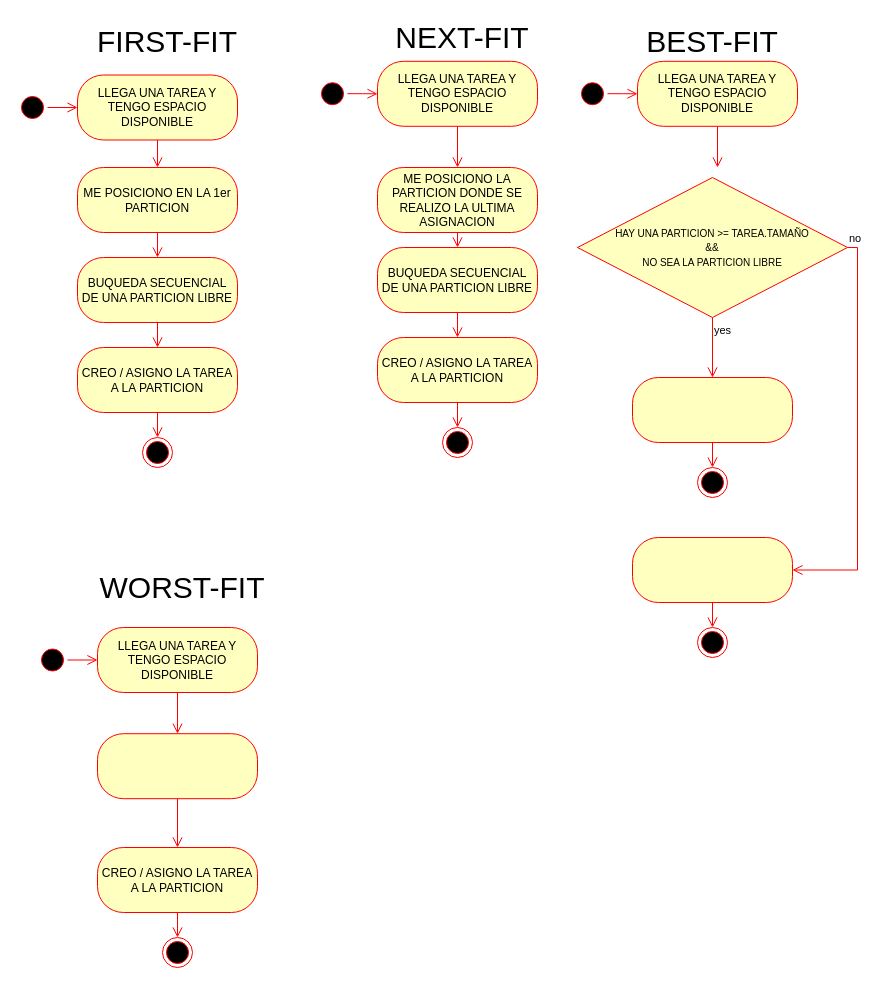
Some shapes in this 885 by 985 pixel diagram are drawn without their labels. The shapes that lost their labels are listed below. From the top down, each one's centre as x and y in pixels, then its label:
At [712,409]: "ASIGNO LA TAREA A LA PARTICION".
At [712,569]: "CREA LA PARTICION Y LE ASIGNO LA TAREA".
At [177,766]: "BUSCO LA PARTICION MAS GRANDE".
